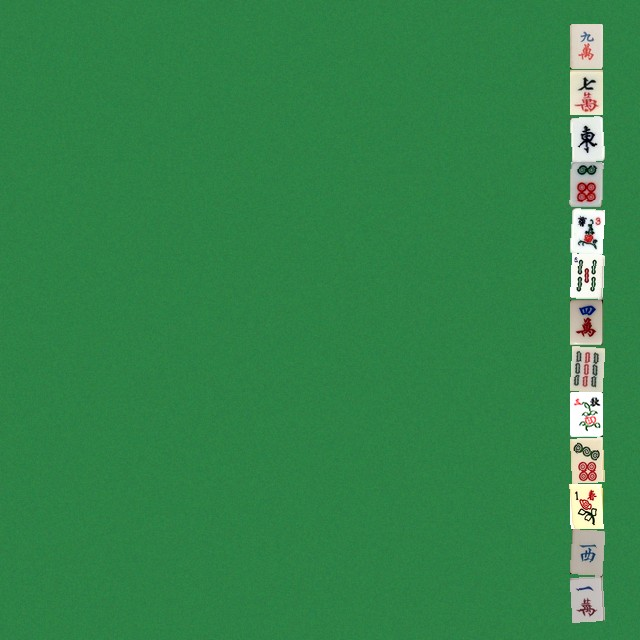tile: (569, 23, 602, 68), (569, 69, 602, 114), (569, 115, 602, 160), (569, 161, 602, 206), (569, 207, 602, 252), (569, 253, 602, 298), (569, 299, 602, 344), (569, 345, 602, 390), (569, 391, 602, 436), (569, 437, 602, 482), (569, 483, 602, 528), (569, 529, 602, 574), (569, 575, 602, 620)
